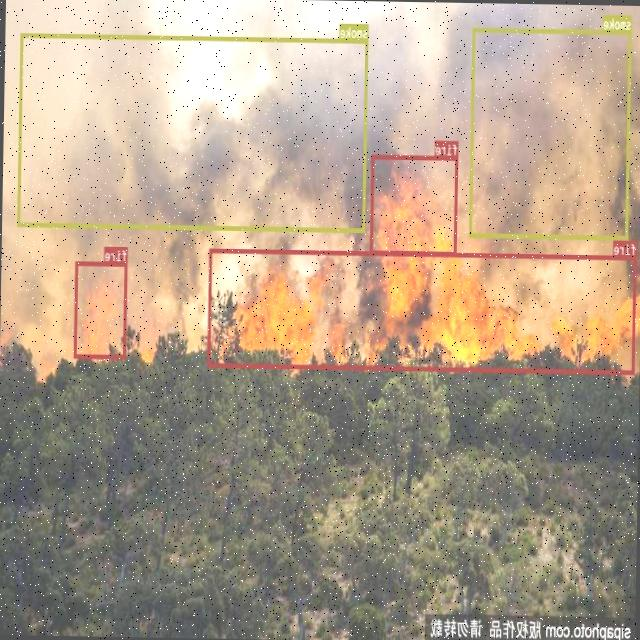fire: (208, 248, 636, 374), (369, 153, 458, 255), (74, 260, 128, 358)
smoke: (18, 32, 369, 232), (470, 27, 632, 238)
